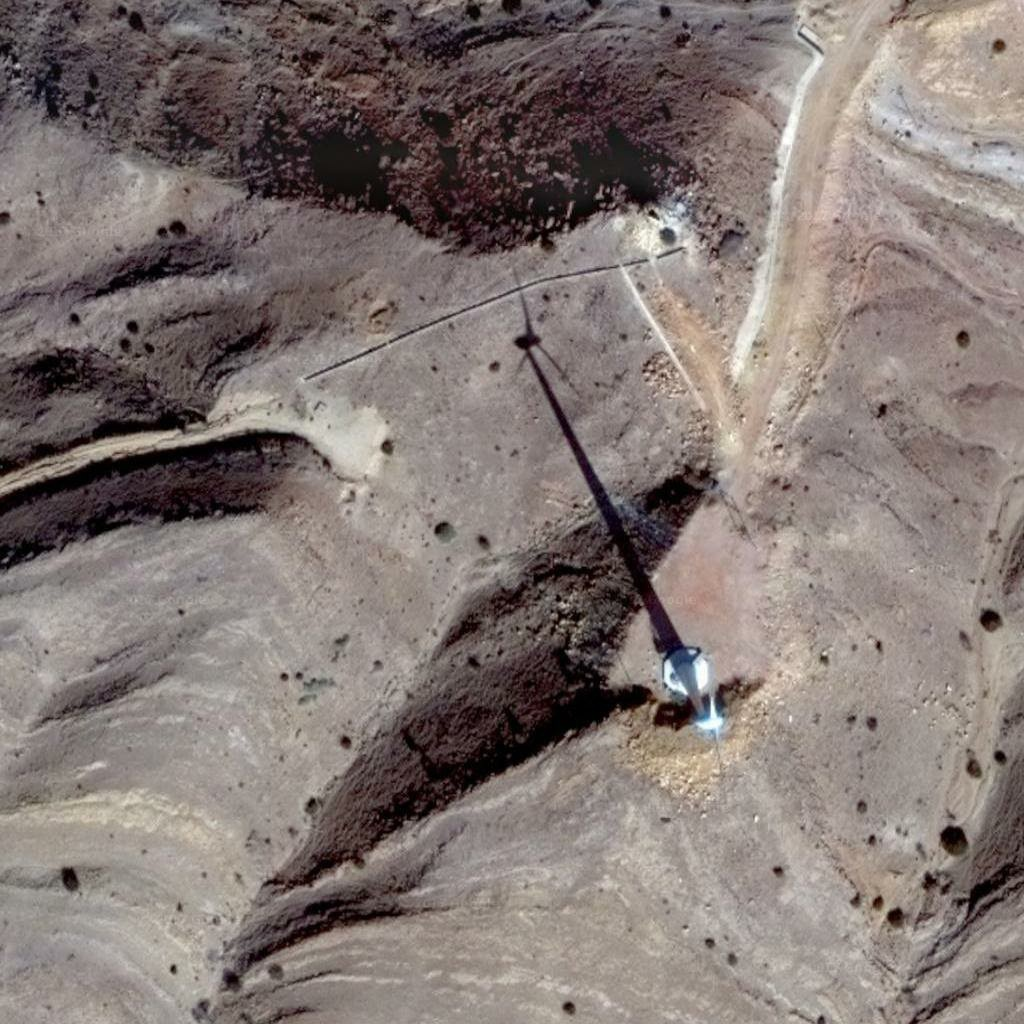Windmill: (472, 262, 726, 671)
